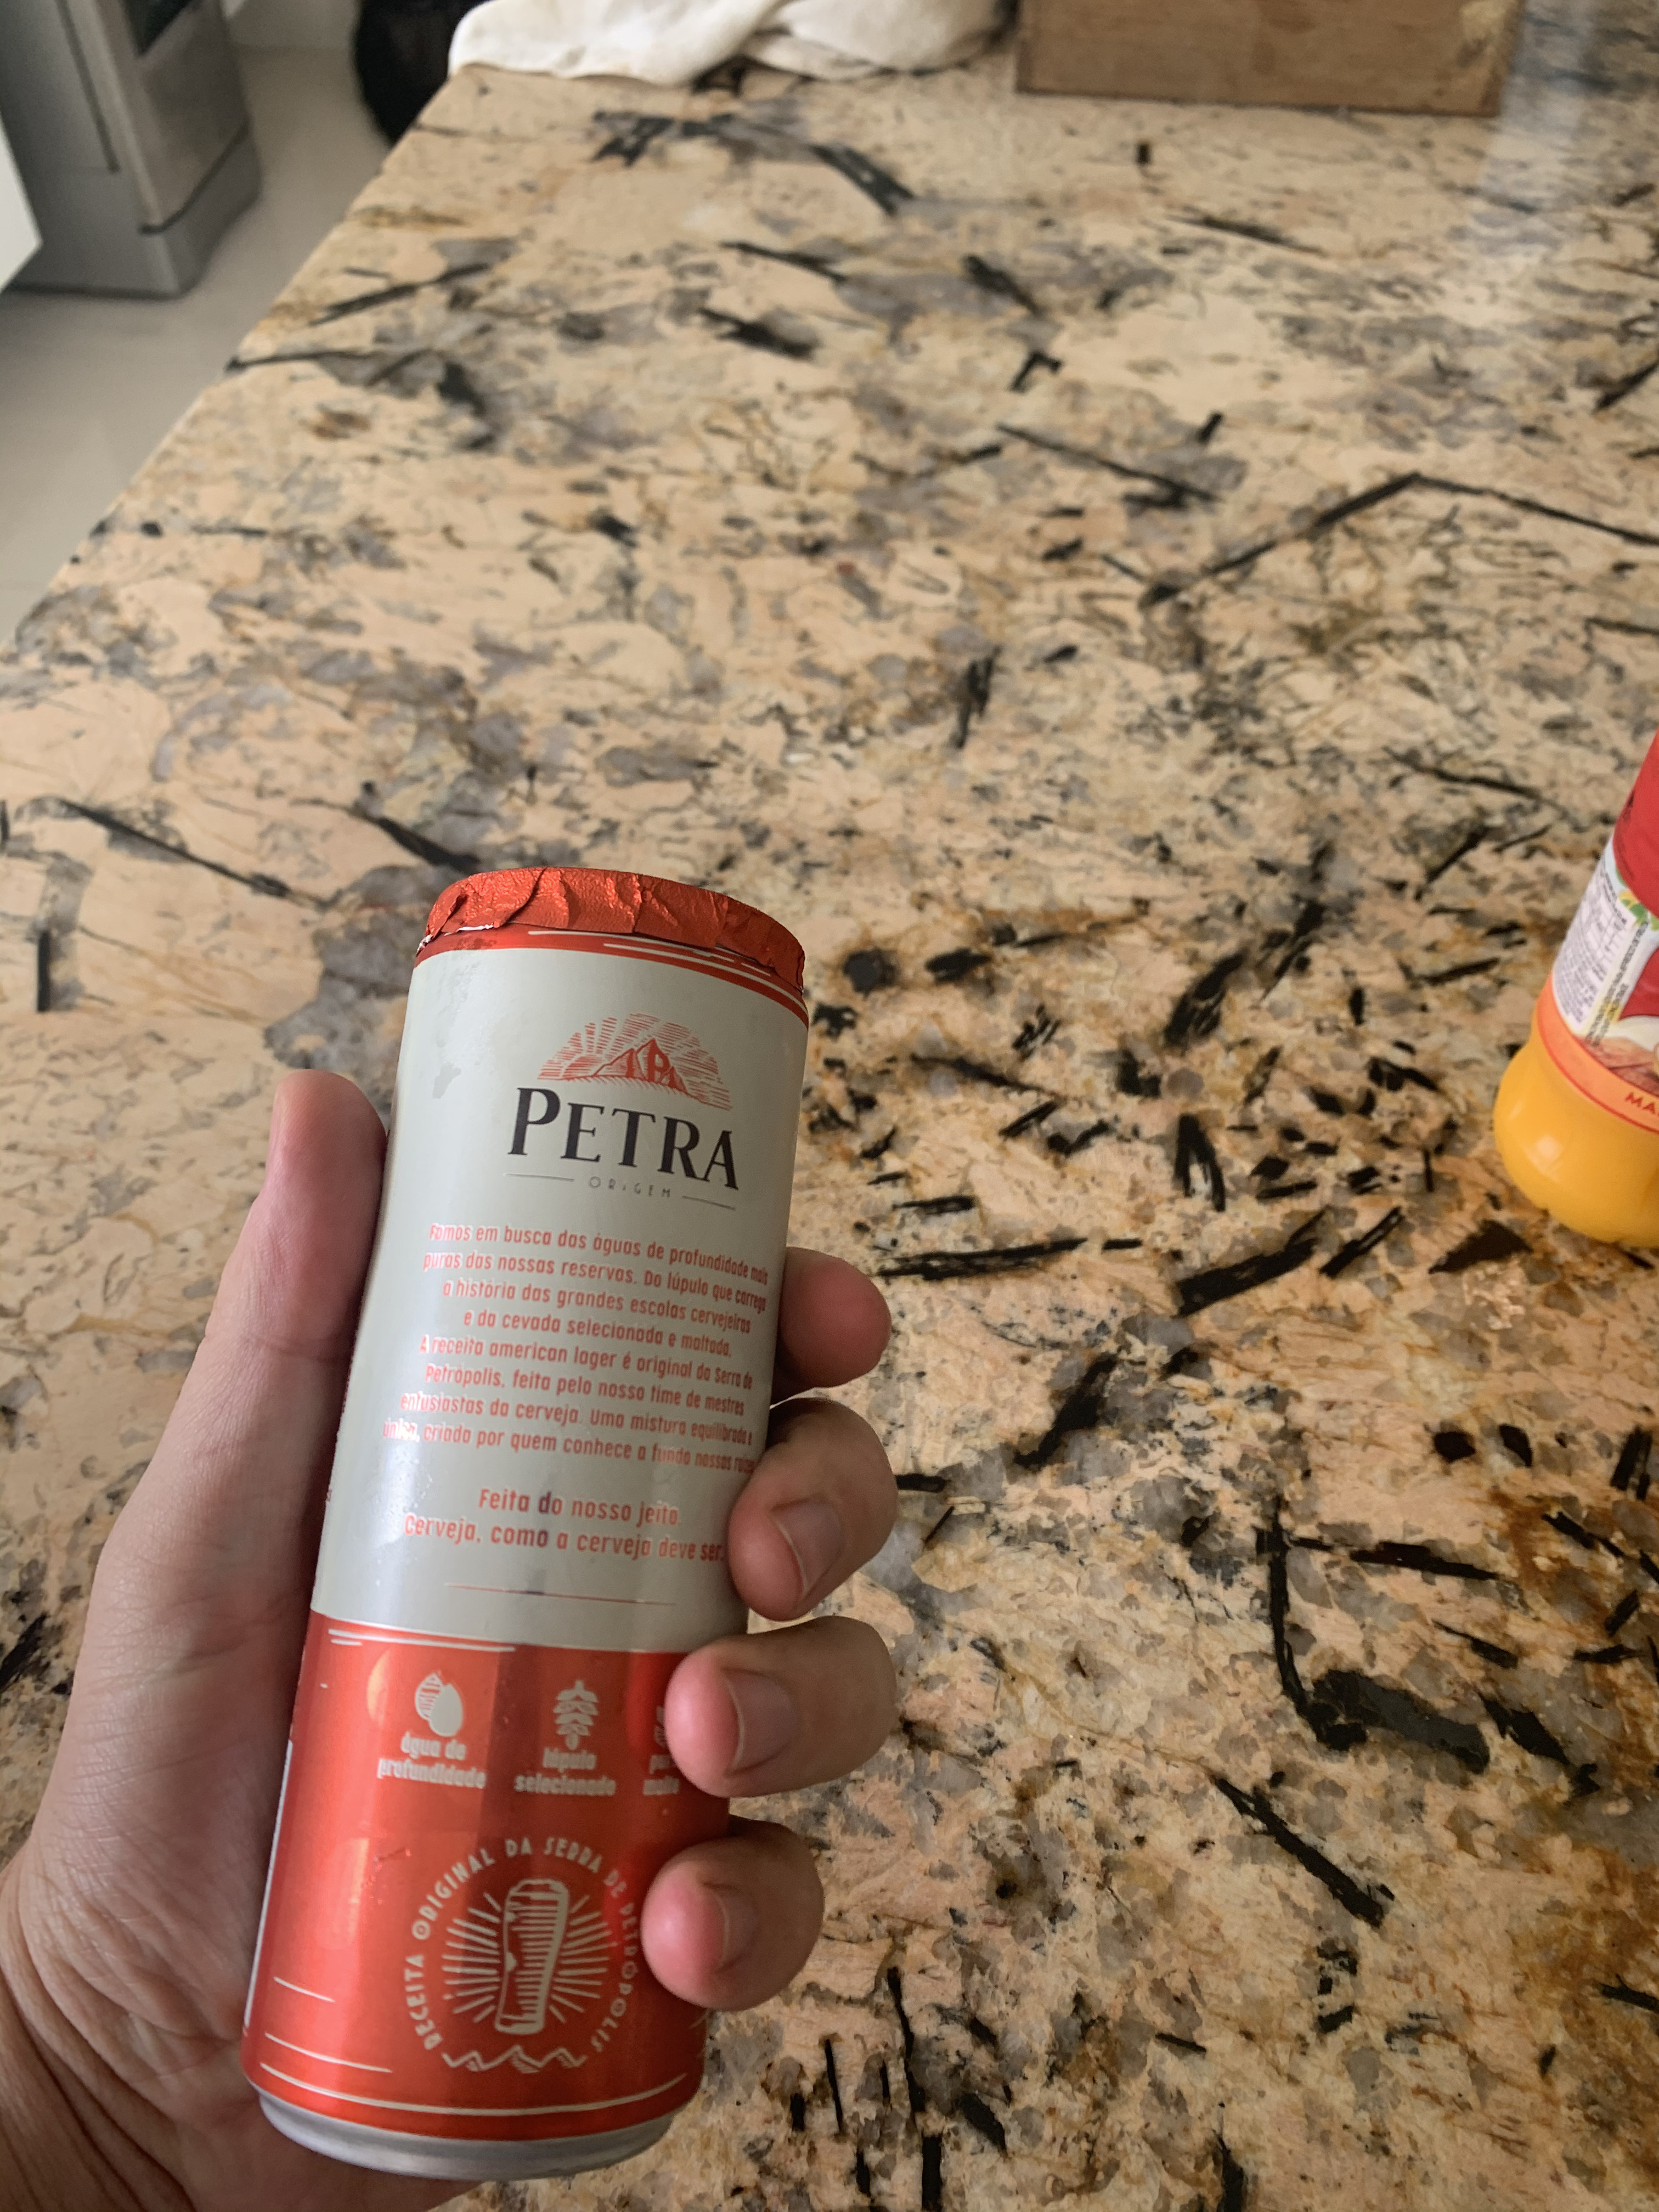petra: (258, 791, 819, 2193)
